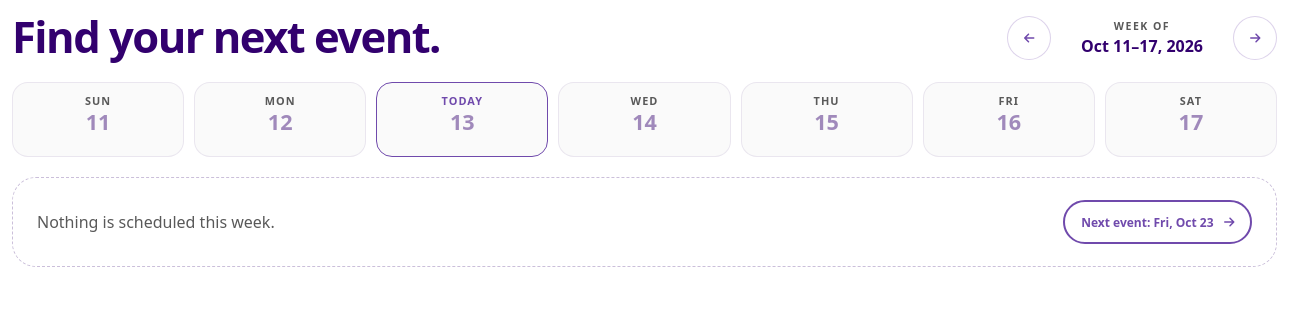
Test: EventAgenda › an empty week offers a jump to the next upcoming event
This screenshot has width=1292, height=336.
Expected: the text "Nothing is scheduled this week." is shown, [37,211,275,233]
Step 1. Click the button "Next event: Fri, Oct 23" → (1158, 222), box [1063,200,1252,244]
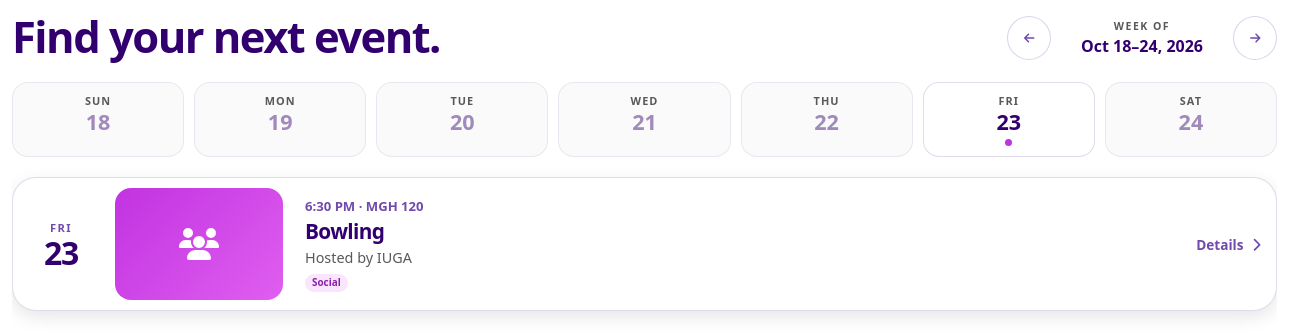
Result: the text "Oct 18–24, 2026" is shown at [1081,35,1203,57]
